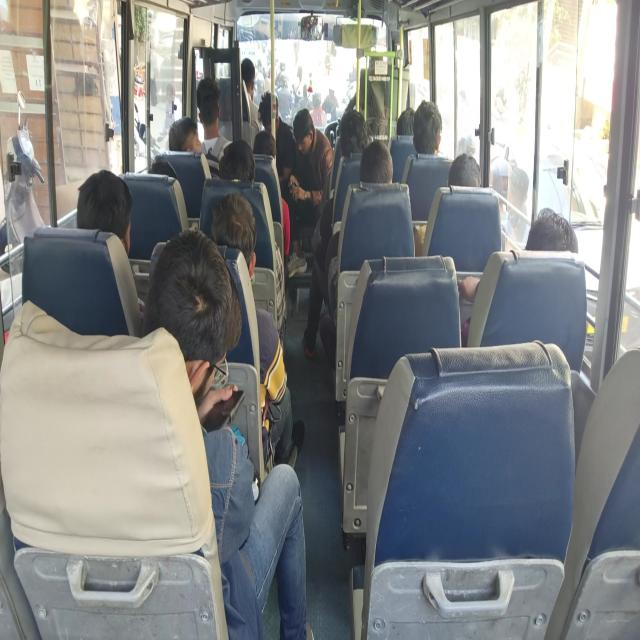person: (154, 240, 227, 352), (212, 192, 257, 286), (76, 178, 133, 247), (532, 205, 578, 266), (362, 148, 400, 191), (147, 160, 189, 198), (415, 101, 442, 157), (220, 151, 255, 194), (340, 117, 375, 160), (450, 154, 483, 198), (173, 118, 203, 163), (199, 74, 220, 126), (295, 109, 316, 147), (260, 94, 281, 123), (402, 99, 418, 134), (244, 57, 256, 93), (255, 136, 272, 159)
